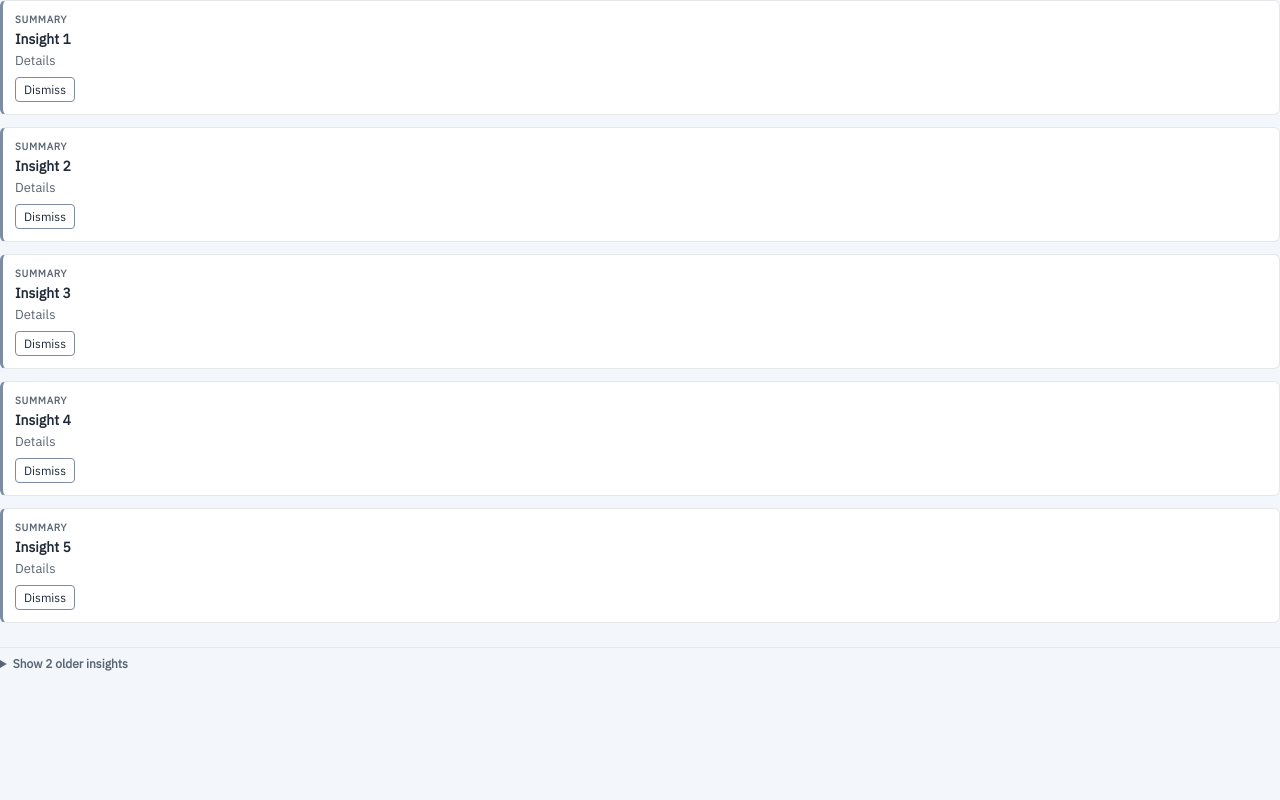
Test: shows five unread insights before revealing the older remainder
Expected: the text "Insight 1" is shown 5 times, [15,30,71,48]; [15,157,71,175]; [15,284,71,302]; [15,411,71,429]; [15,538,71,556]
Expected: the text "Insight 6" is not shown
What coordinates should you click on to do the following:
click the heading "Show 2 older insights"
I would click on:
 (64, 664)
Its box is [0,656,128,671].
(page scrolled)
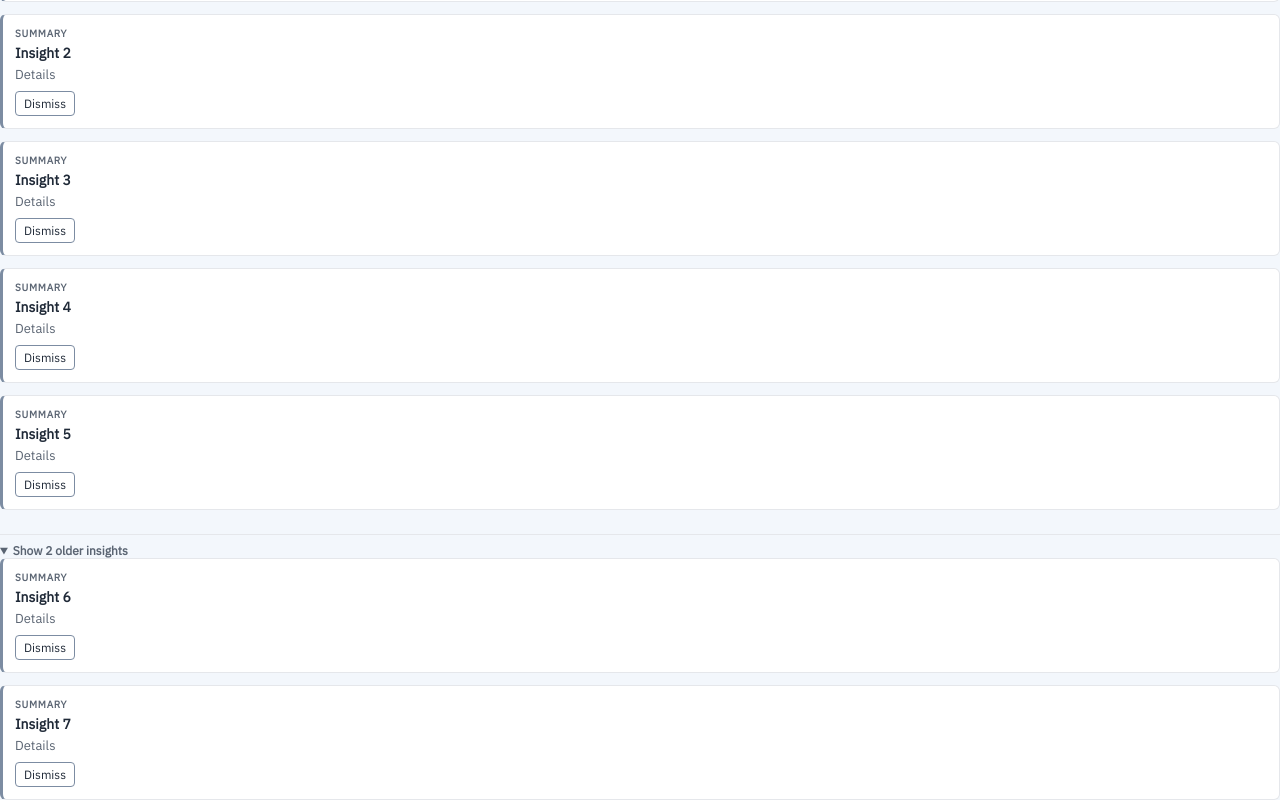
Now the text "Insight 6" is shown, box [15,588,71,606]
Now the text "Insight 7" is shown, box [15,715,71,733]
